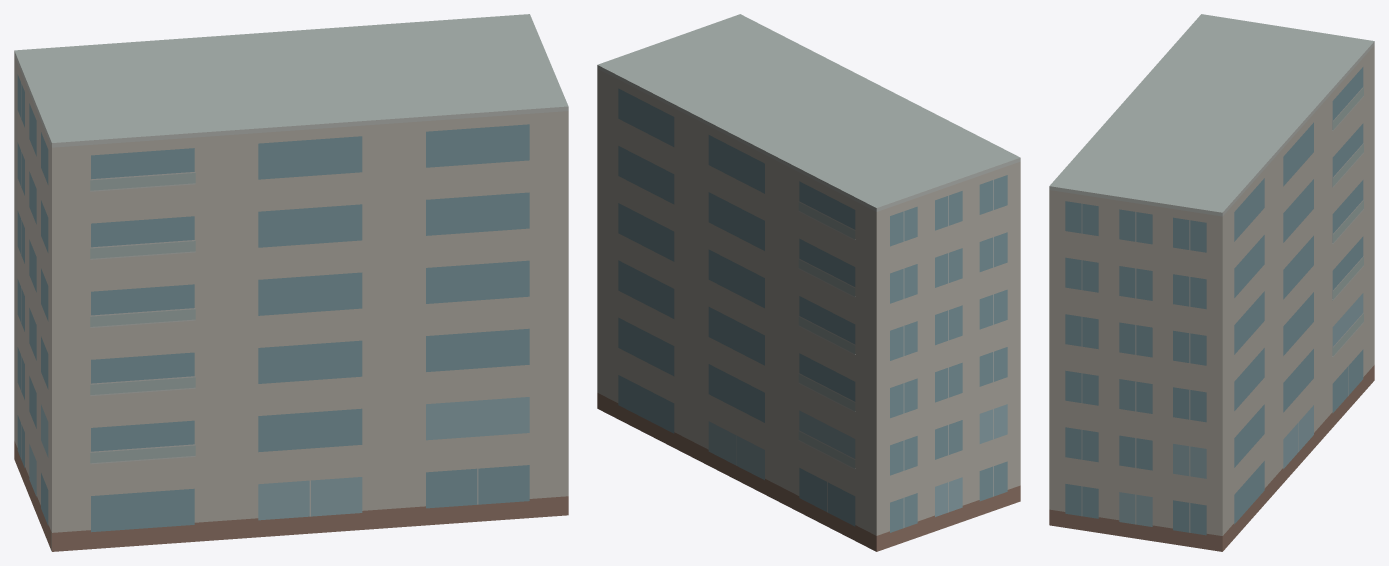
Rendered from survey-upis-32944337.glb.
The picture shows the model from 3 angles, left to right: view 1: azimuth 30°, elevation 25°; view 2: azimuth 150°, elevation 25°; view 3: azimuth 270°, elevation 25°; orthographic projection. The views are drawn at different scales.
Visible parts, largest first — view 1: survey-upis-32944337.tmp; view 2: survey-upis-32944337.tmp; view 3: survey-upis-32944337.tmp.
Part boxes in pixels (left/top/right/bottom): survey-upis-32944337.tmp: left=14, top=14, right=568, bottom=551; survey-upis-32944337.tmp: left=597, top=14, right=1020, bottom=551; survey-upis-32944337.tmp: left=1049, top=14, right=1374, bottom=551.
Size of the model in its own units: 27.27 by 21.7 by 18.88.
